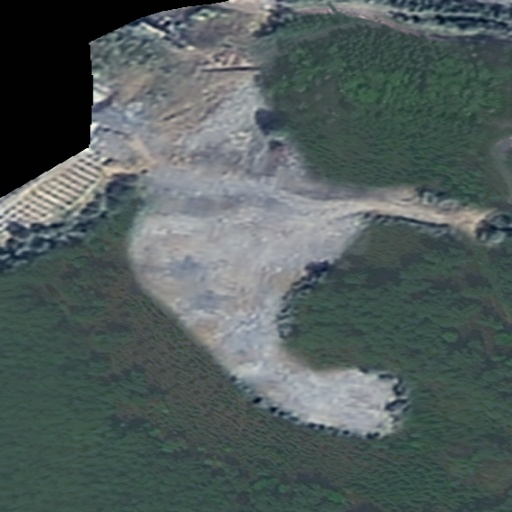landslide: (96, 190, 402, 440)
